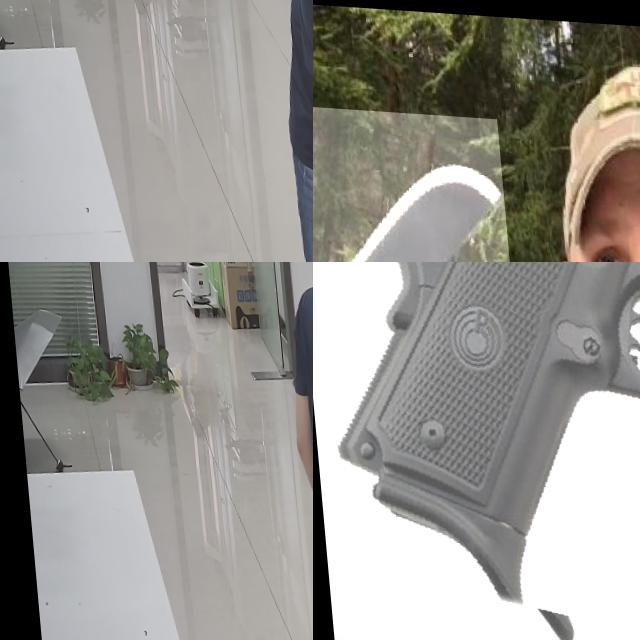-: (313, 99, 524, 262)
gun-knife-thesis - v11 Yolov5 augmented: (313, 262, 640, 640)
